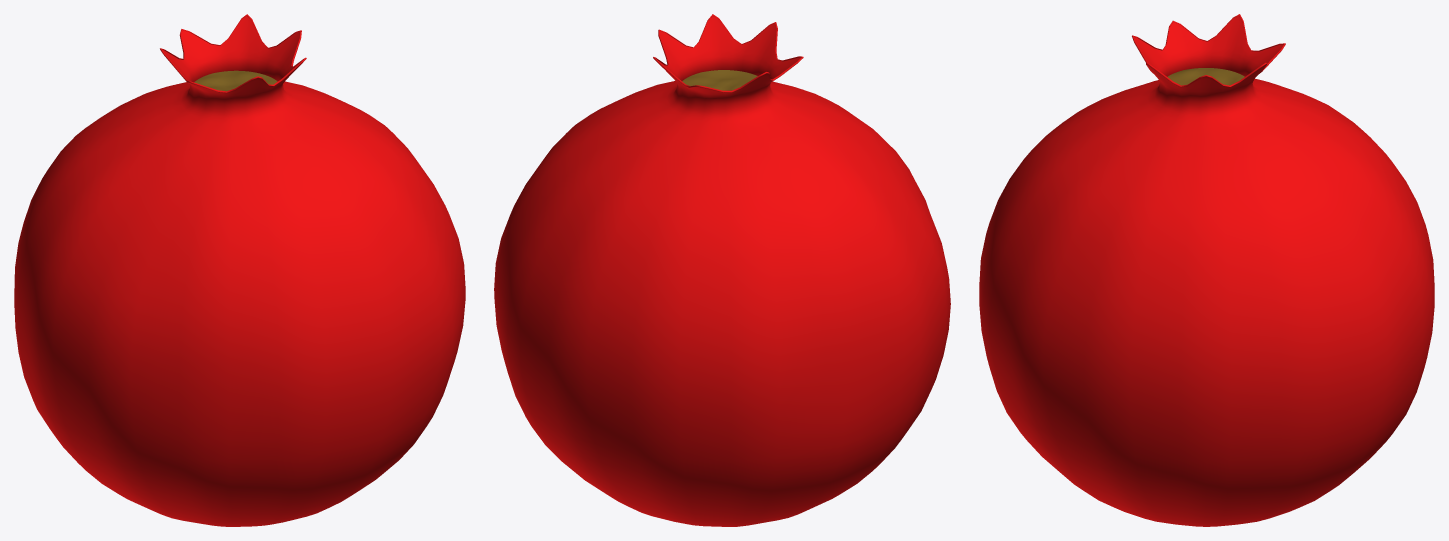
The model's file is promegranate_uv.fbx.
The picture shows the model from 3 angles, left to right: view 1: azimuth 30°, elevation 25°; view 2: azimuth 150°, elevation 25°; view 3: azimuth 270°, elevation 25°; orthographic projection.
Visible parts, largest first — view 1: pDisc2; view 2: pDisc2; view 3: pDisc2.
Boxes of the visible parts, x1=… form: pDisc2: x1=14, y1=14, x2=465, y2=526; pDisc2: x1=494, y1=14, x2=950, y2=526; pDisc2: x1=979, y1=14, x2=1434, y2=526.
Bounding box in the file's own units: 1.97 × 2.15 × 1.95.
